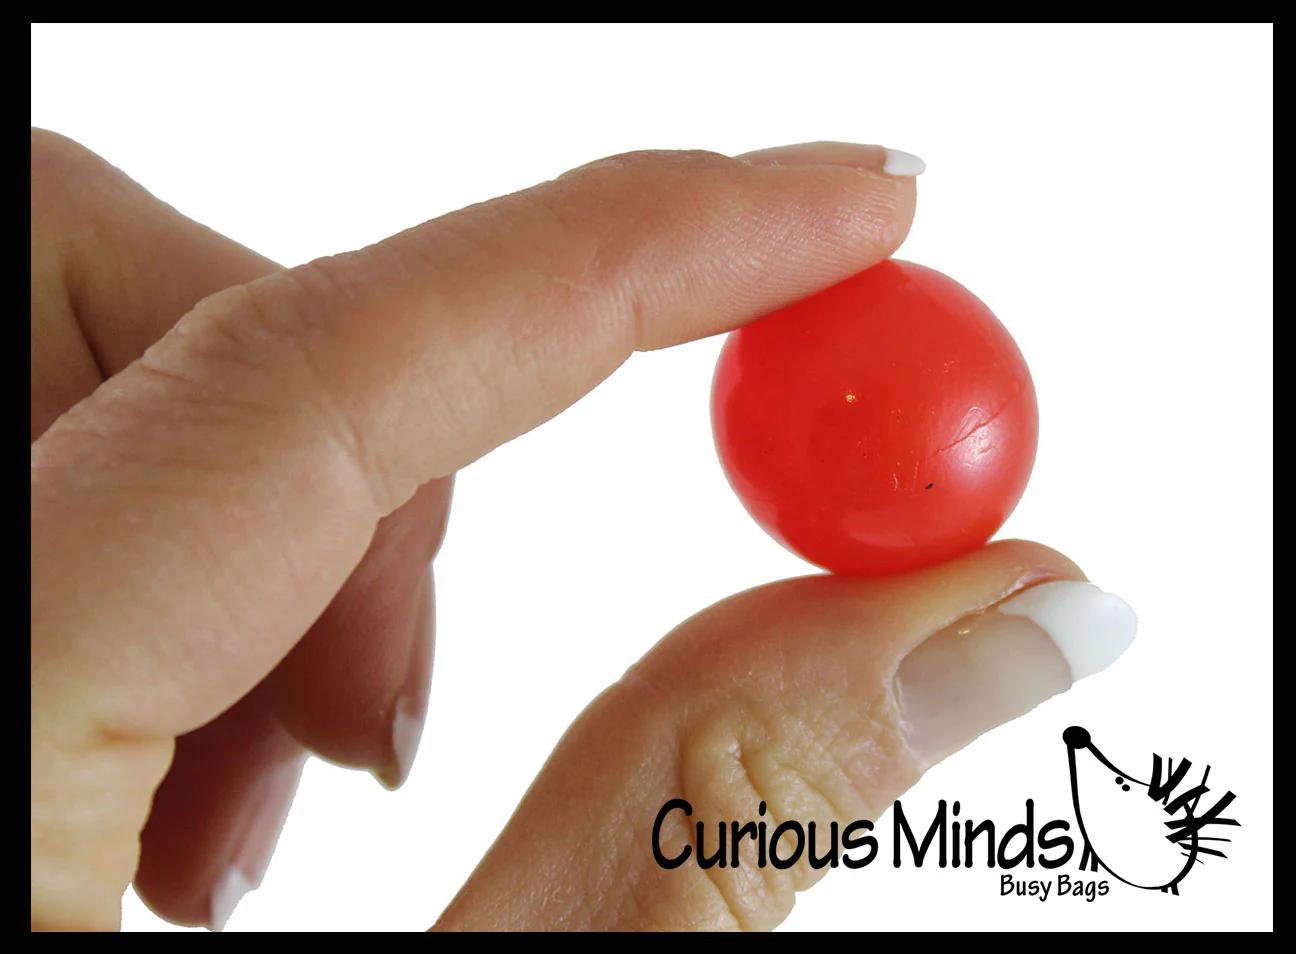Red_Ball: (682, 231, 1051, 584)
